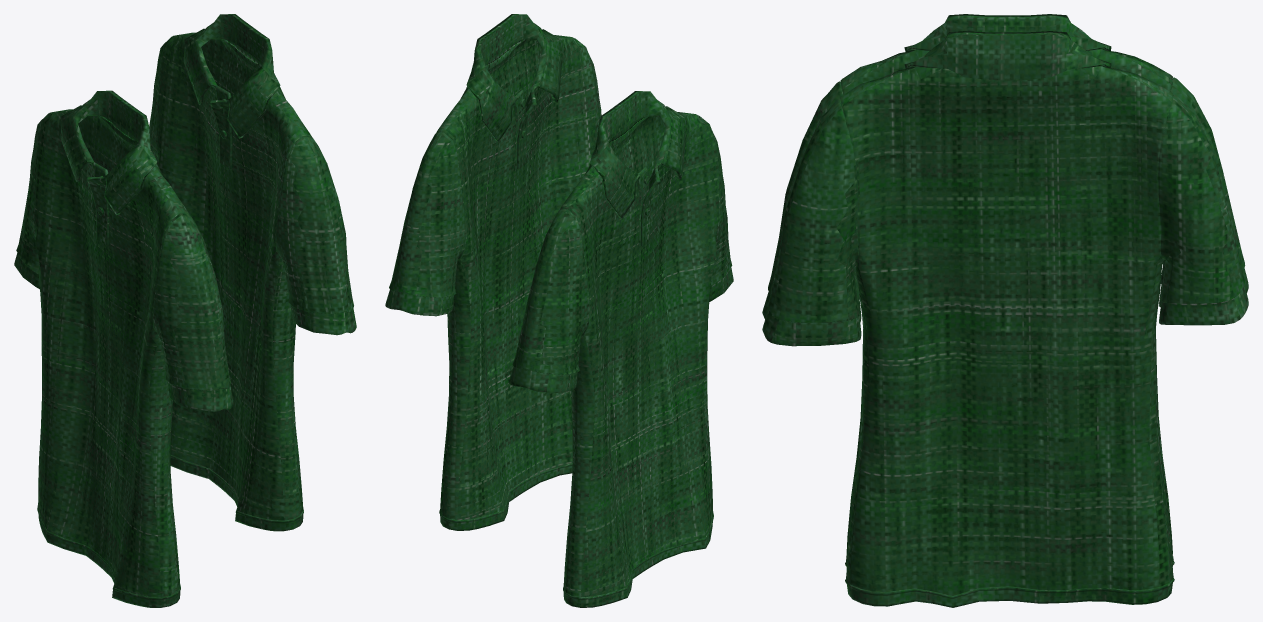
Rendered from yifu10_txu_01.fbx.
The picture shows the model from 3 angles, left to right: view 1: azimuth 30°, elevation 25°; view 2: azimuth 150°, elevation 25°; view 3: azimuth 270°, elevation 25°; orthographic projection. The views are drawn at different scales.
Parts seen in each view (by area): view 1: yifu10_txu_01; view 2: yifu10_txu_01; view 3: yifu10_txu_01.
Boxes of the visible parts, left/top/right/bottom form: yifu10_txu_01: left=14, top=14, right=356, bottom=607; yifu10_txu_01: left=385, top=14, right=733, bottom=607; yifu10_txu_01: left=762, top=14, right=1248, bottom=607.
Size of the model in its own units: 36.54 by 89.68 by 61.81.
